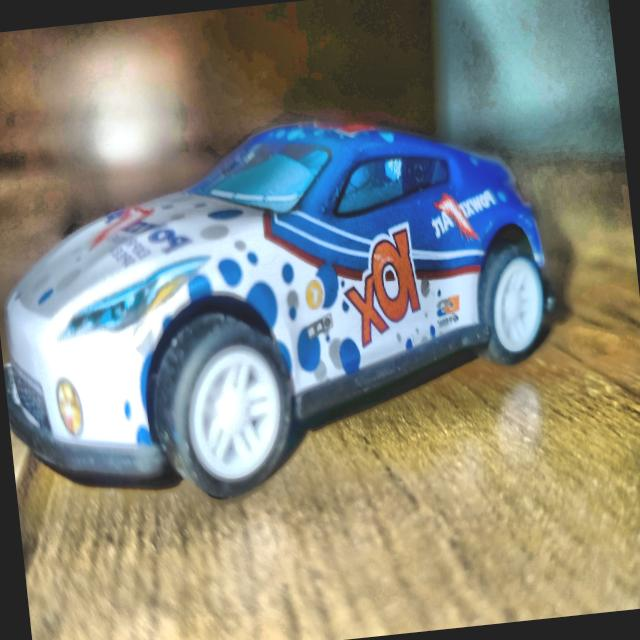Car: (0, 102, 568, 519)
